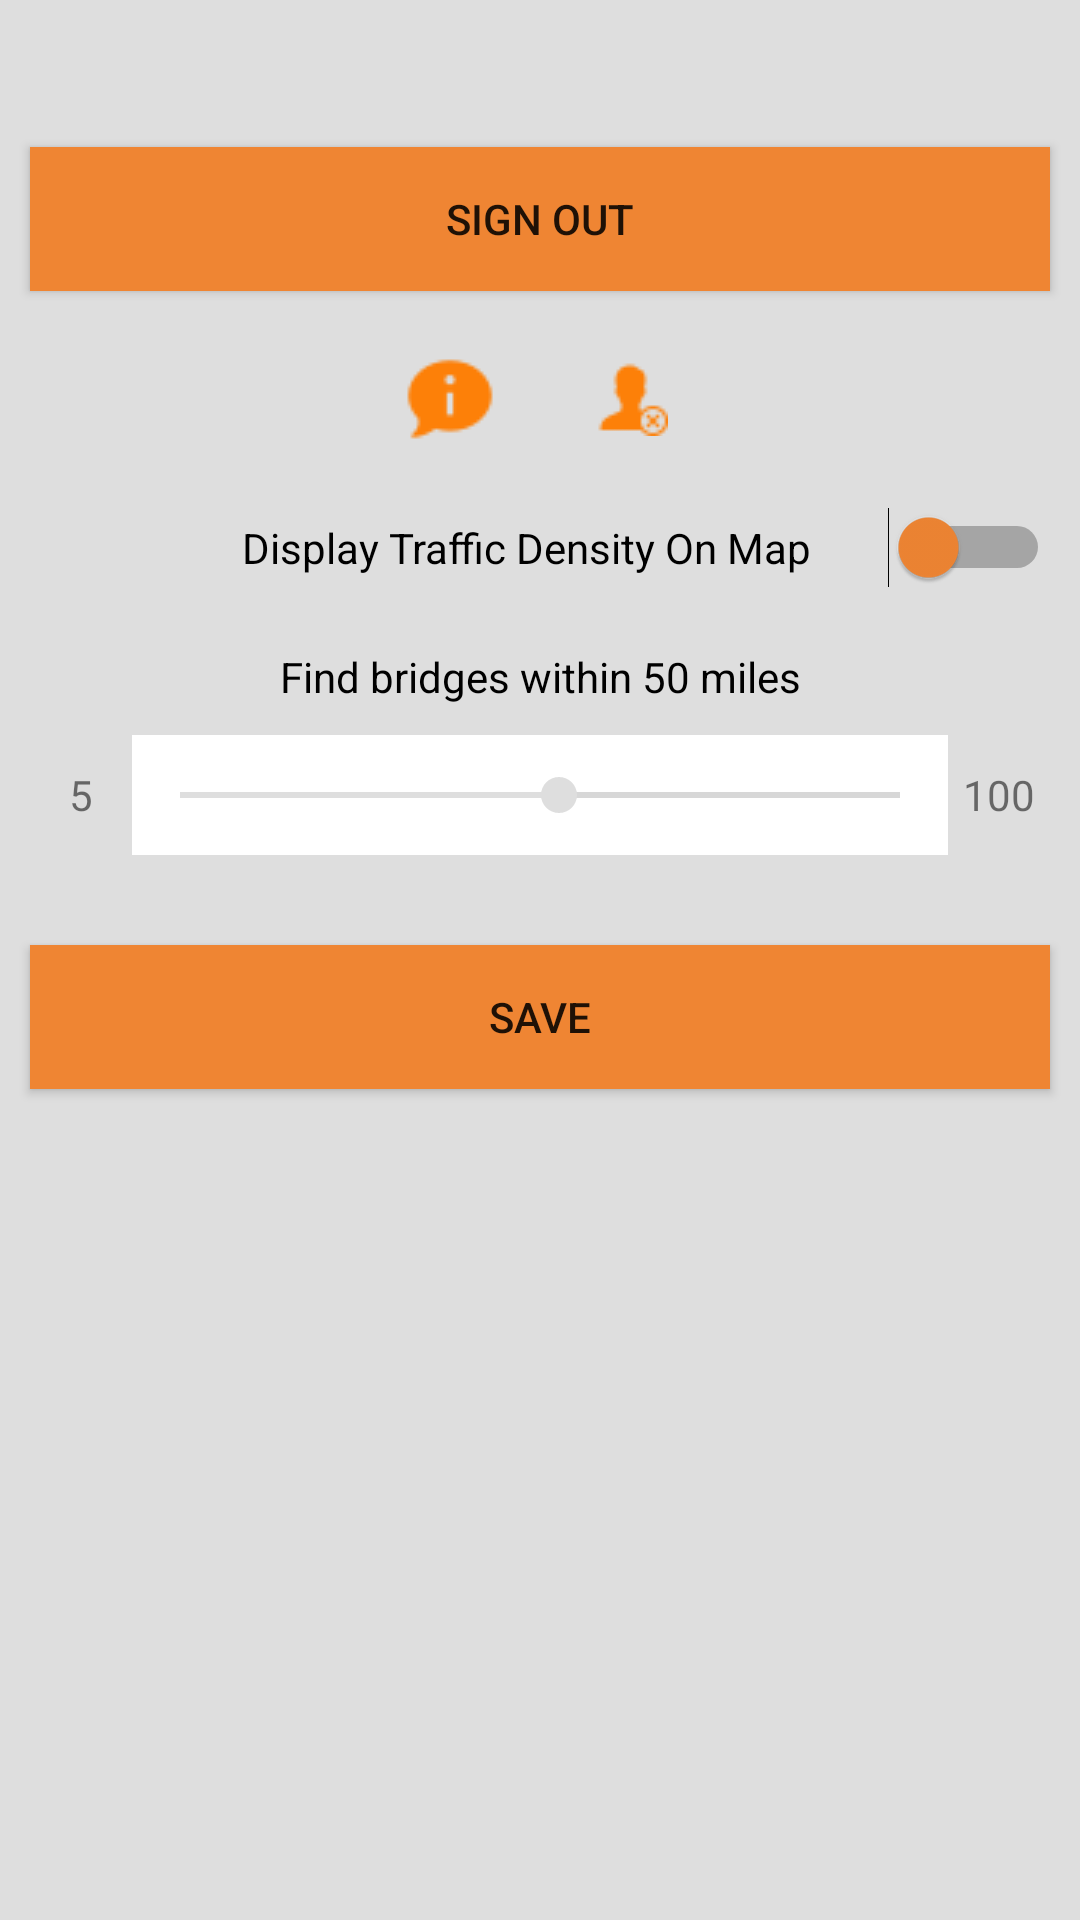

Where to tap for icons on this 1080 × 1920 app screen, as (x,y):
about: (450,399)
delete user: (633,399)
